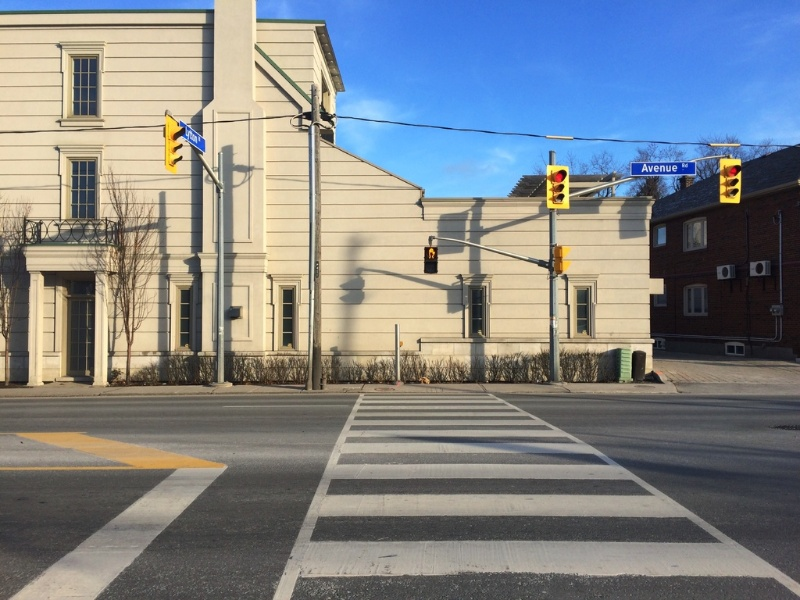red_light: (723, 160, 746, 179), (550, 166, 571, 185)
zebra_cross: (280, 393, 800, 597)
